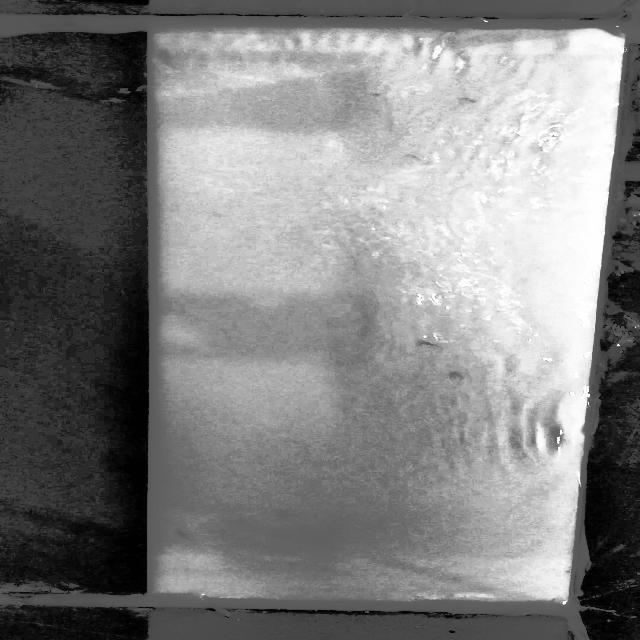shrimp: (414, 337, 451, 352), (174, 525, 200, 541)
